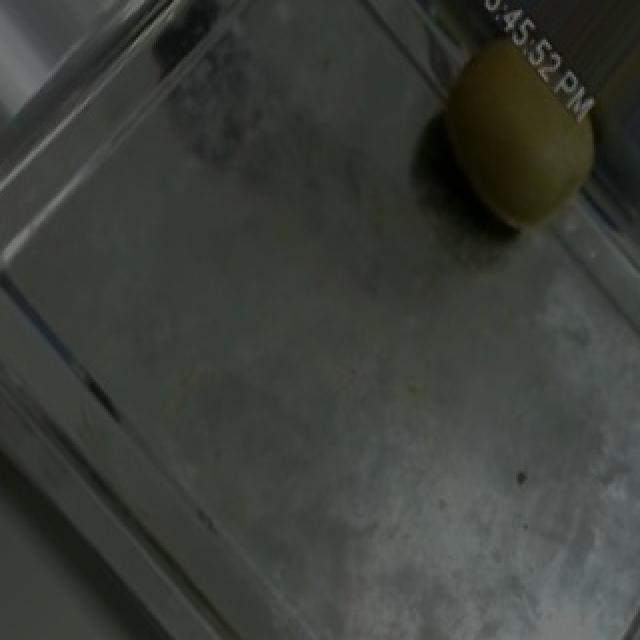Fruit: (412, 0, 634, 268)
